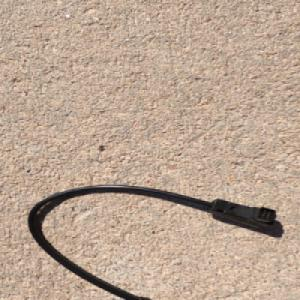Wire: (26, 182, 278, 300)
